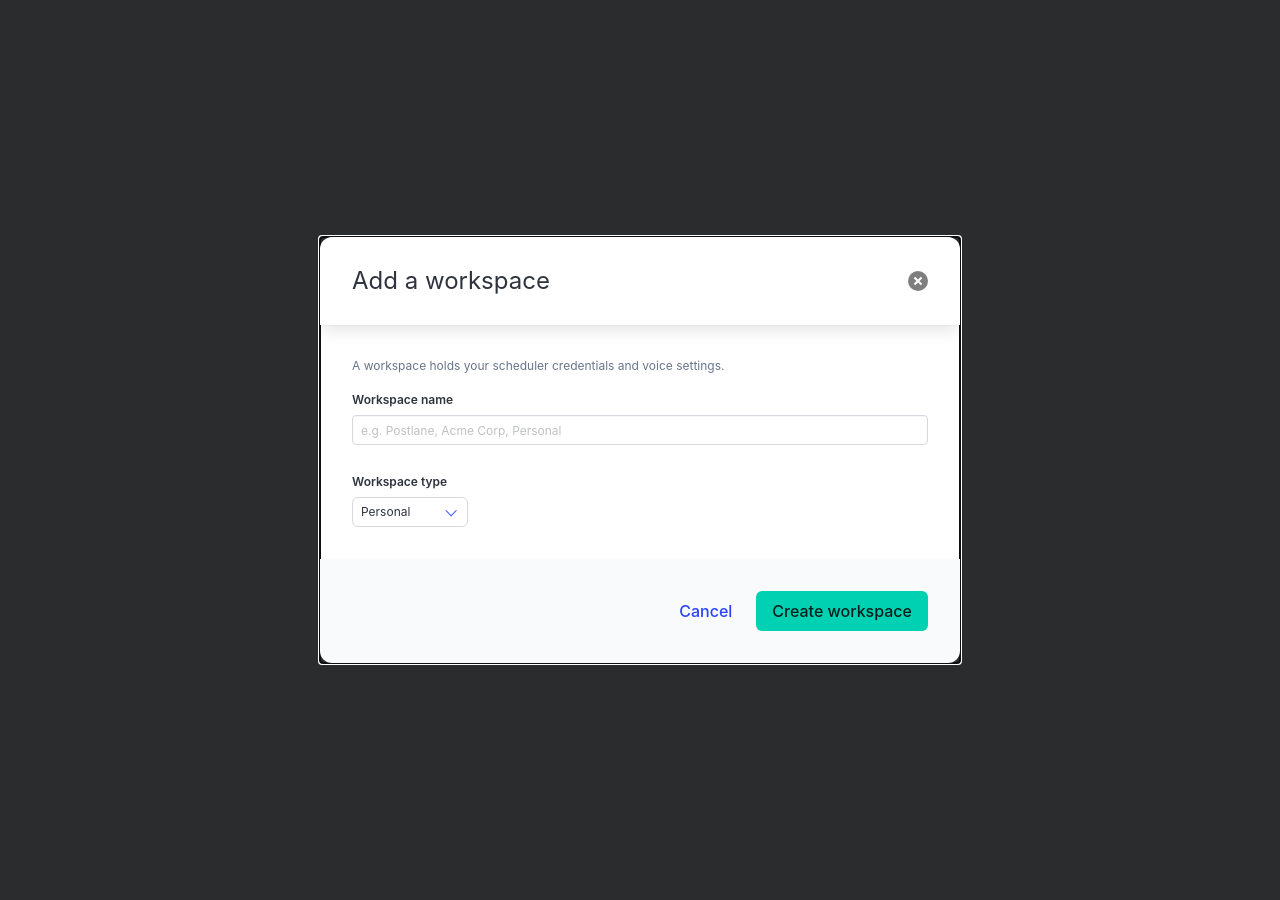
it: AddWorkspaceModal — error handling and type guard › shows the API error inline and keeps the modal open when create_project rejects
Type "New Workspace" into the field labelled "Workspace name" at [640, 430], box [352, 415, 928, 445]
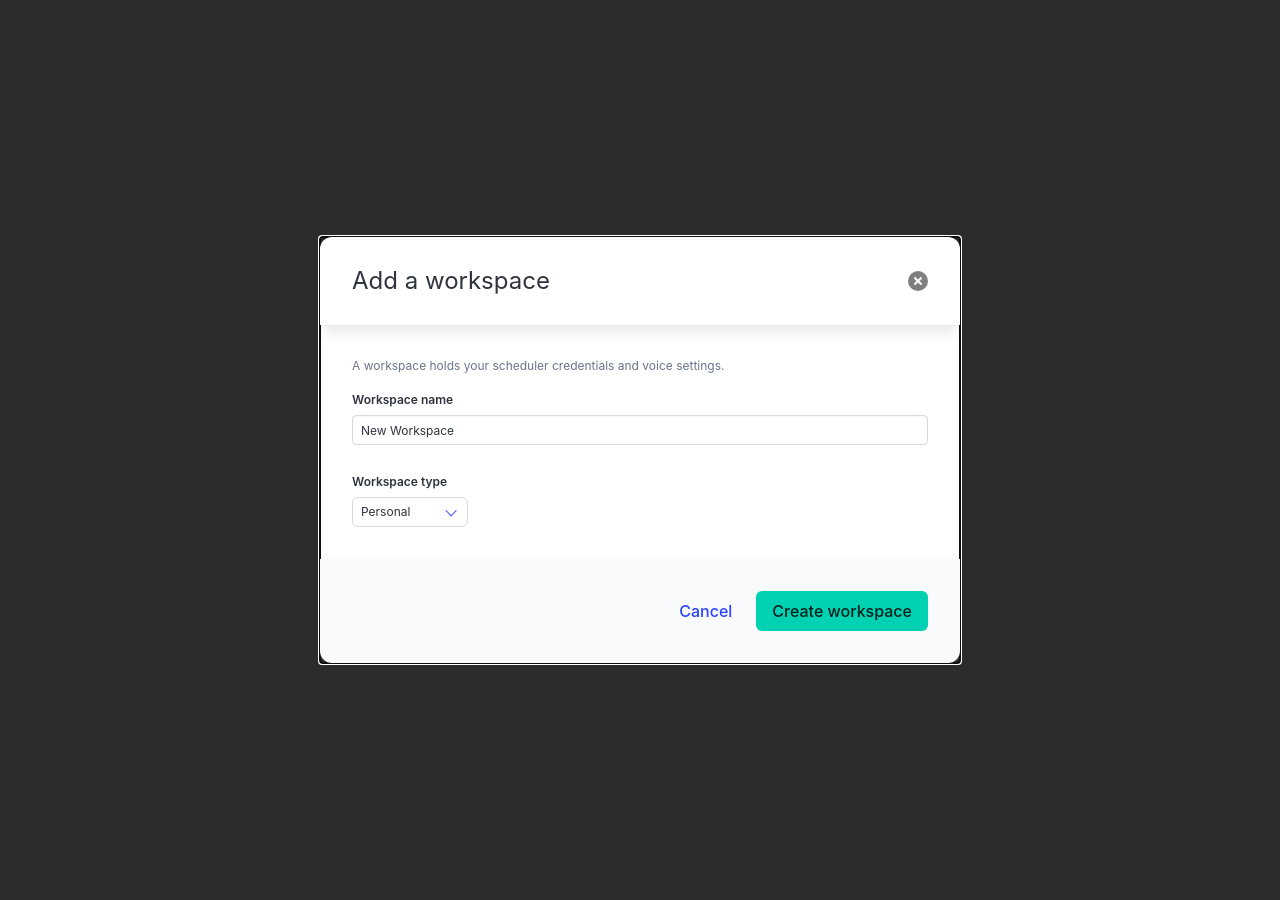
Click the button "Create workspace" at [842, 611], box [756, 591, 928, 631]
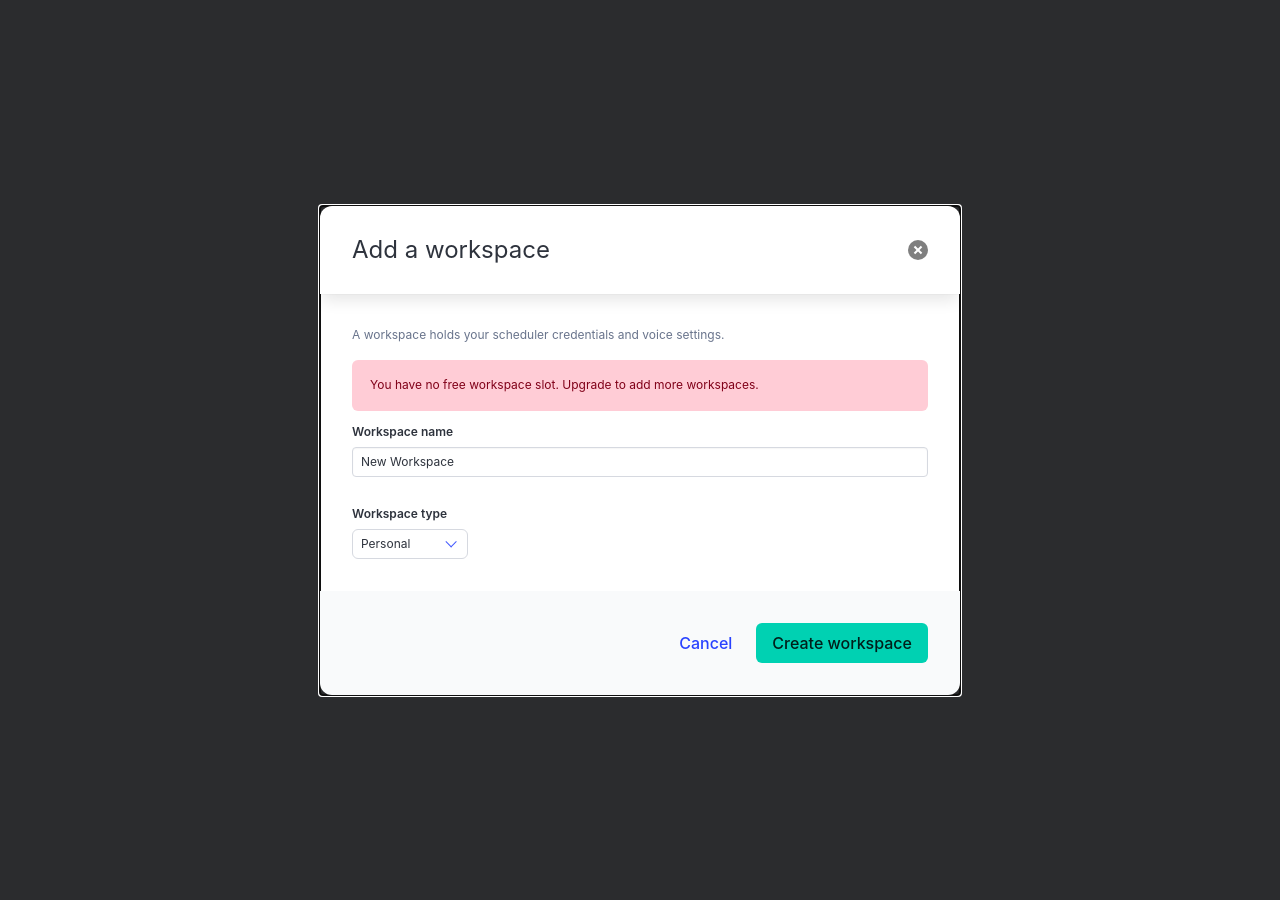
Expected: the message "You have no free workspace slot. Upgrade to add more workspaces." is shown, [352, 360, 928, 410]
